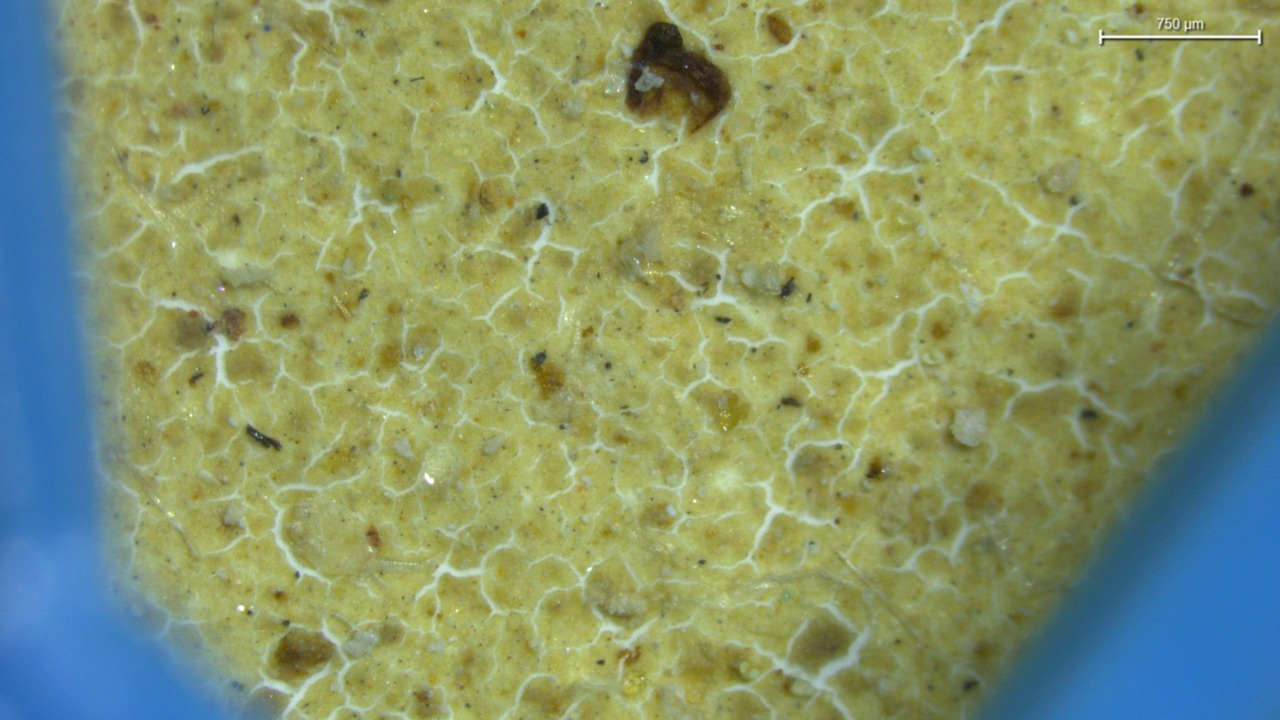microplastic_fragment: (626, 22, 731, 132), (950, 408, 988, 447)
